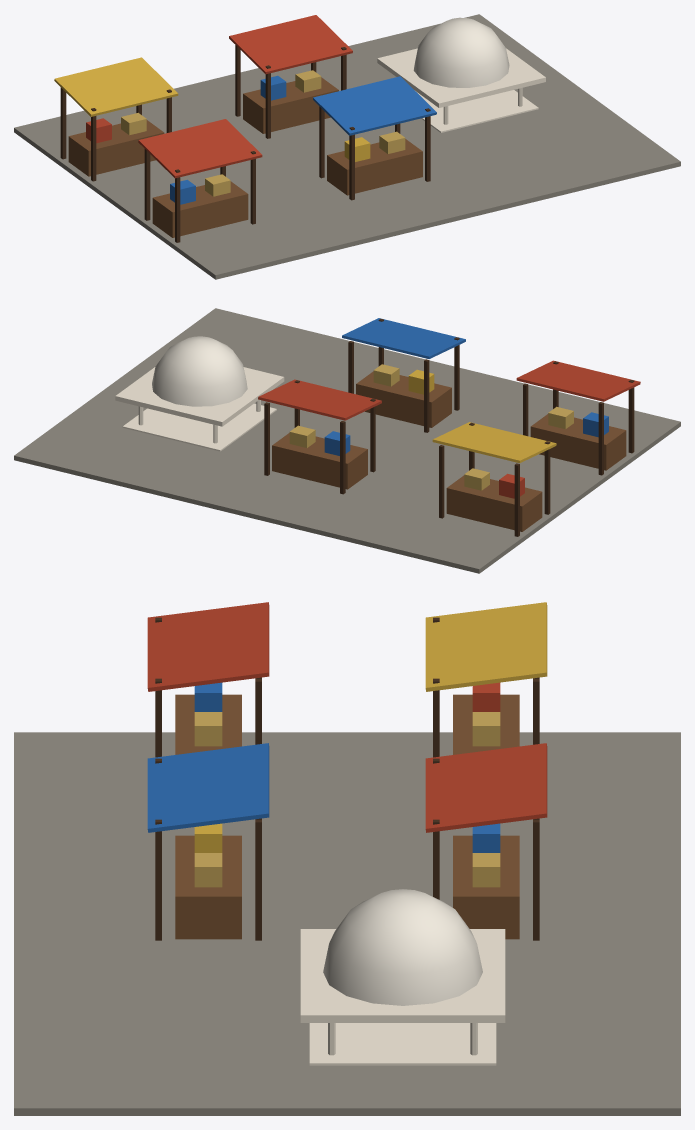
Rendered from market.glb.
3 views of the same model, one above another, from view 1: azimuth 30°, elevation 25°; view 2: azimuth 150°, elevation 25°; view 3: azimuth 270°, elevation 25° (orthographic). The views are drawn at different scales.
Visible parts, largest first — view 1: Market; view 2: Market; view 3: Market.
Part boxes in pixels (x1,y1,x2,y2): Market: [14, 14, 680, 279]; Market: [14, 308, 680, 573]; Market: [14, 602, 680, 1115].
Size of the model in its own units: 16 by 2.74 by 12.
